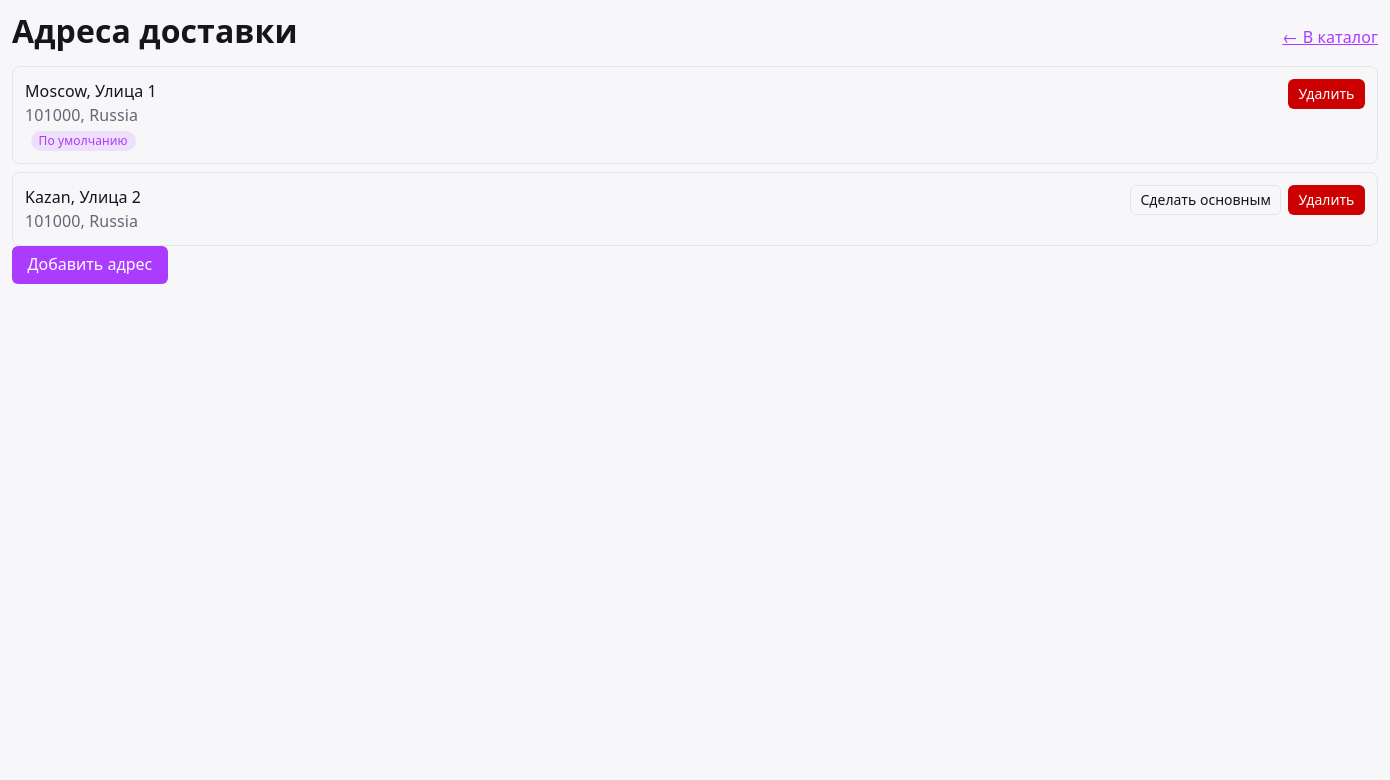
it: AddressesPage › форма добавления открывается и закрывается
Check: the text "Moscow, Улица 1" is shown, box [25, 79, 157, 103]
Click the button "Добавить адрес": click(90, 265) [12, 246, 168, 284]
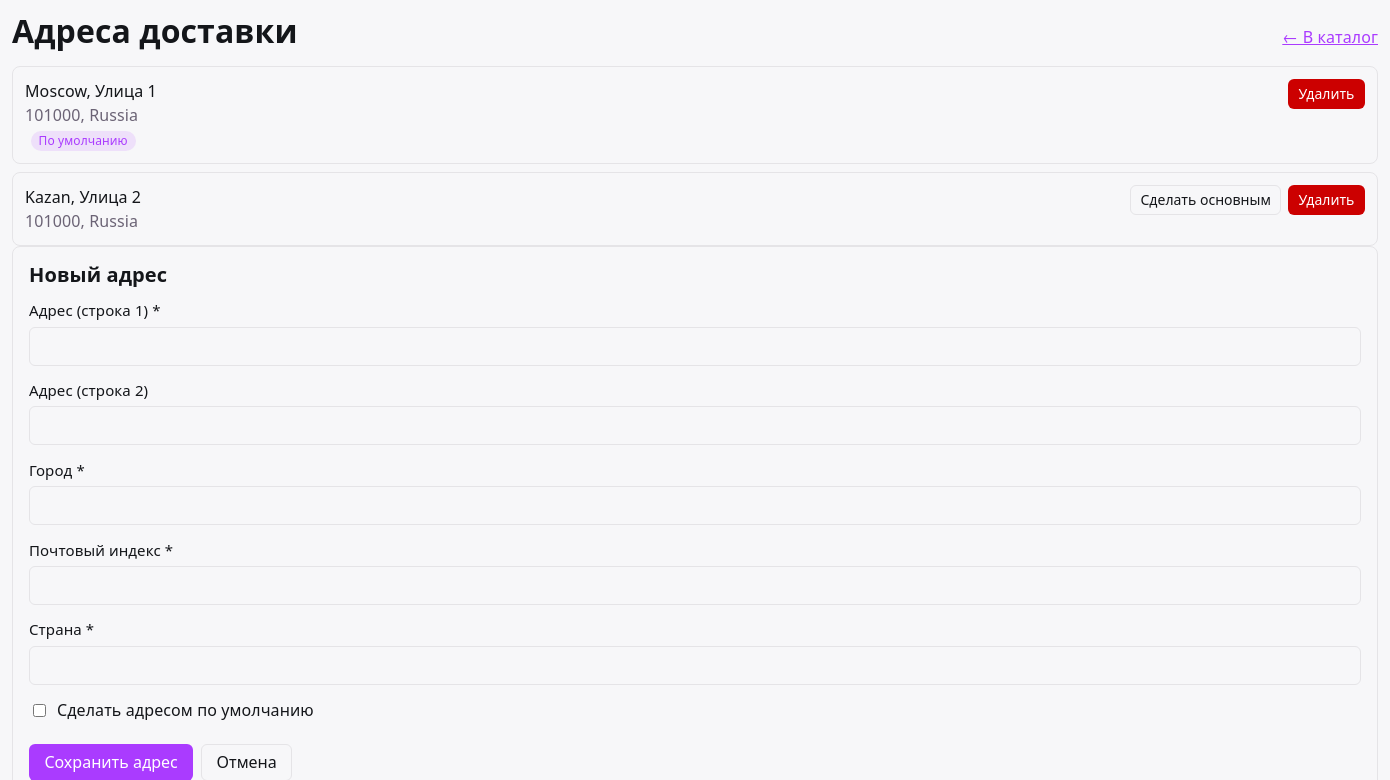
Check: the heading "Новый адрес" is shown, box [29, 261, 167, 288]
Click the button "Отмена": click(247, 762) [201, 744, 292, 779]
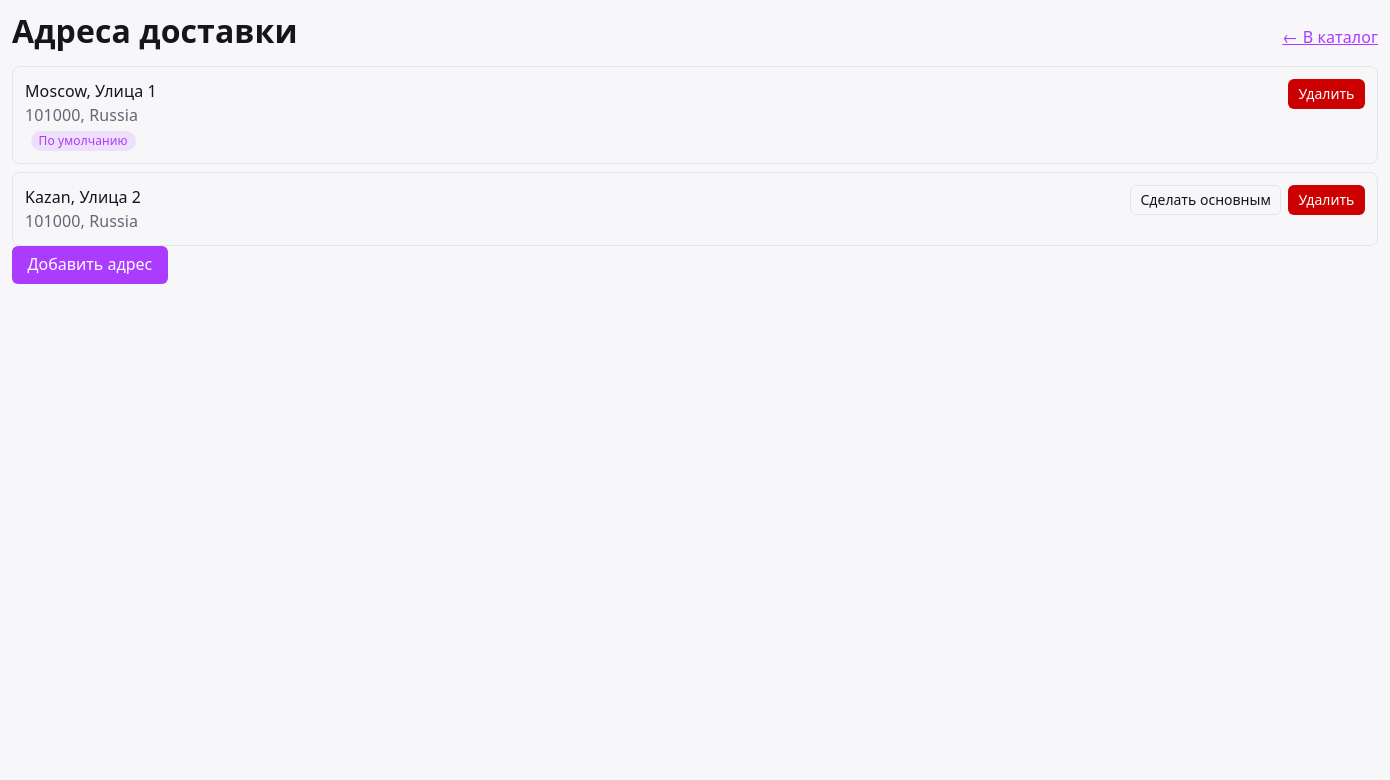
Check: the heading "Новый адрес" is gone
